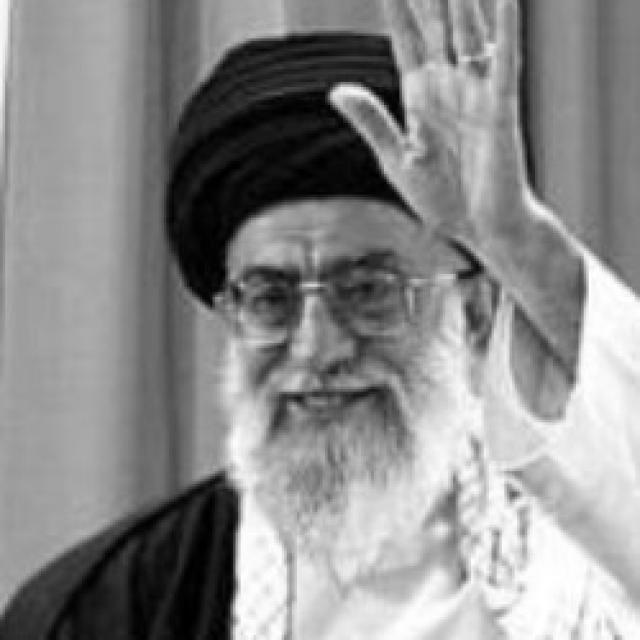real: (168, 111, 486, 506), (236, 265, 409, 319)
